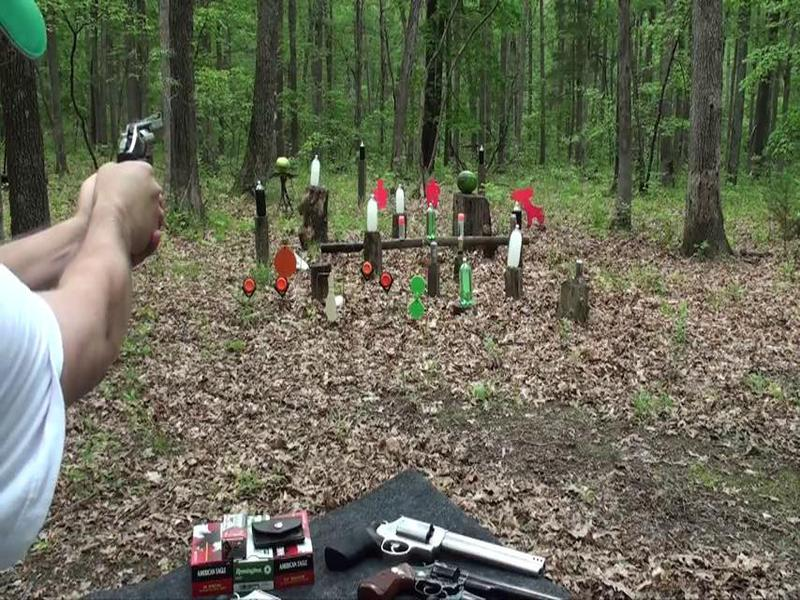Revolver: (108, 102, 173, 181)
